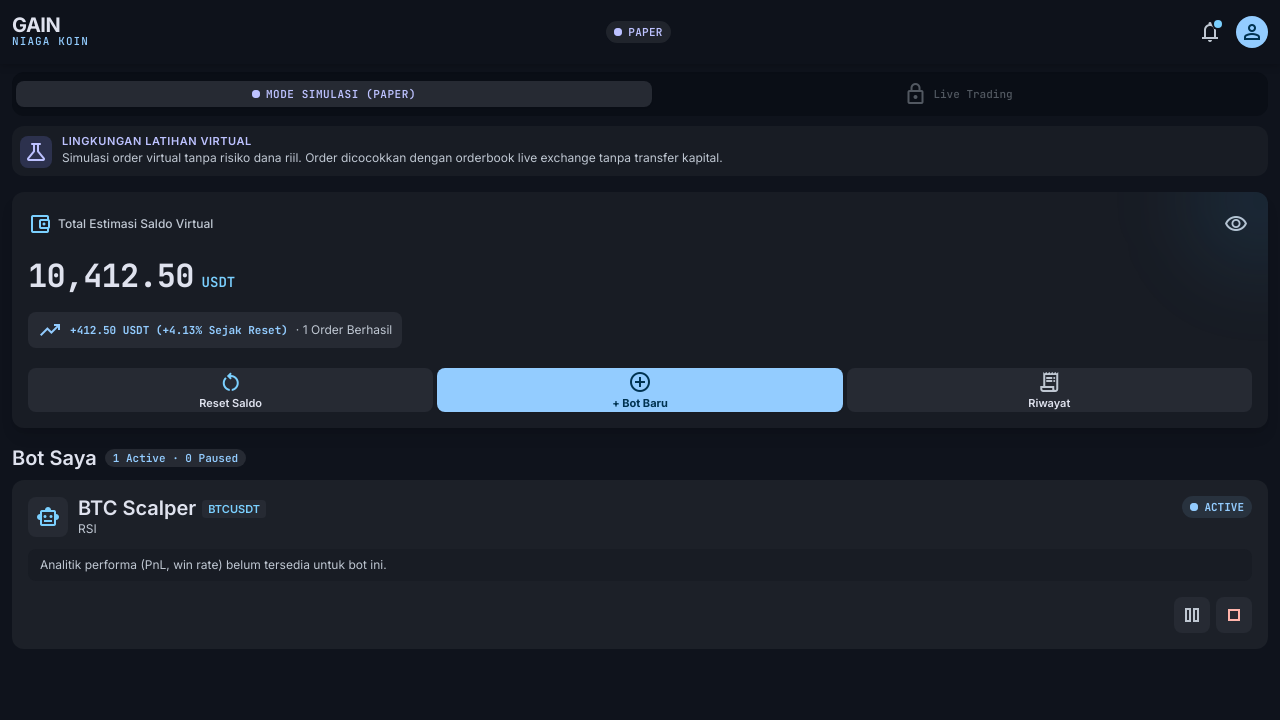
Test: DashboardPage › resets the balance through the real API when confirmed
Expected: the text "10,412.50" is shown, [28,256,194,296]
Click the text "Reset Saldo".
click(231, 403)  # box [199,396,262,410]
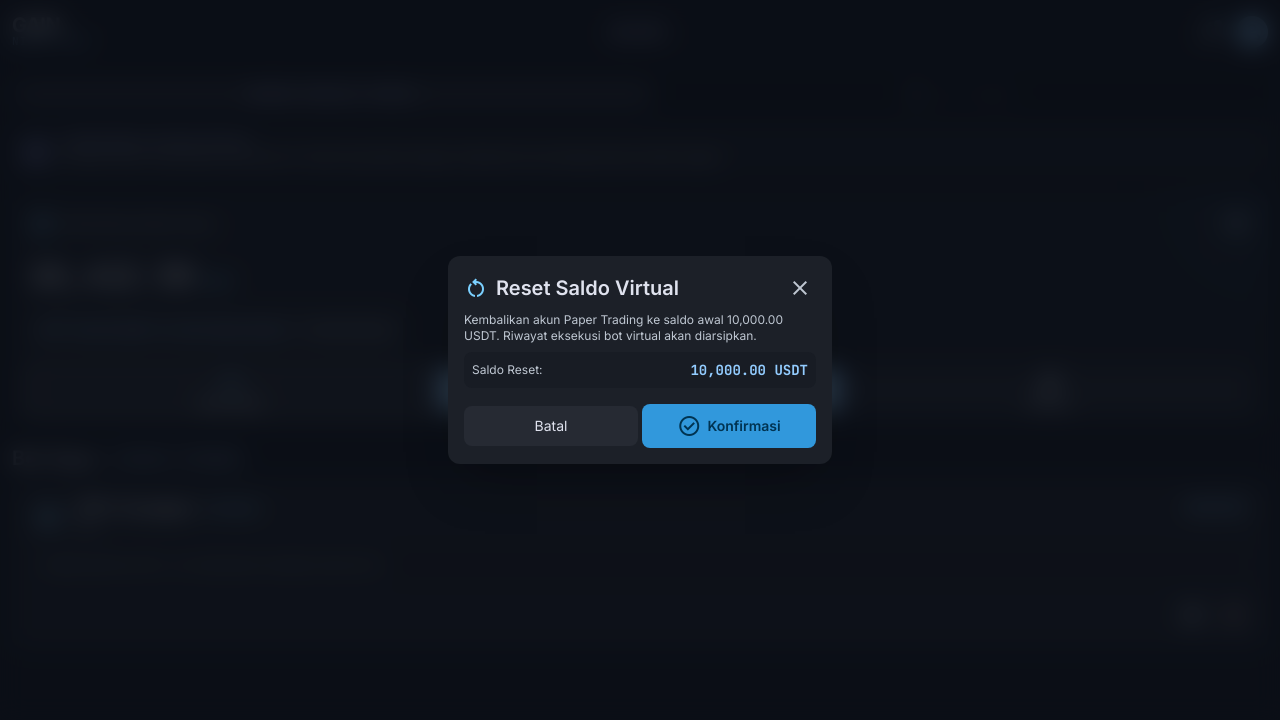
Expected: the dialog is shown
Click the button "Konfirmasi".
click(729, 426)  # box [642,404,816,448]
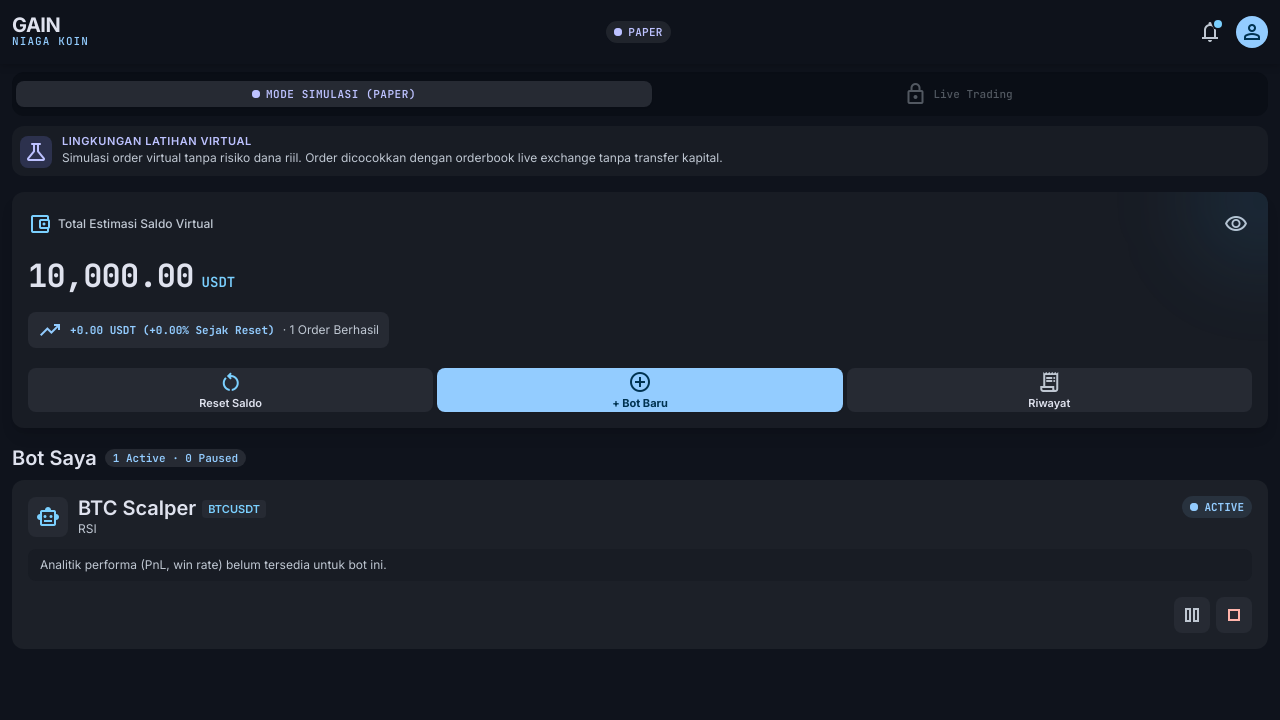
Expected: the text "10,000.00" is shown, [28,256,194,296]
Expected: the dialog is gone
